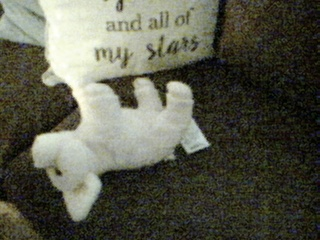piggy: (30, 76, 195, 224)
